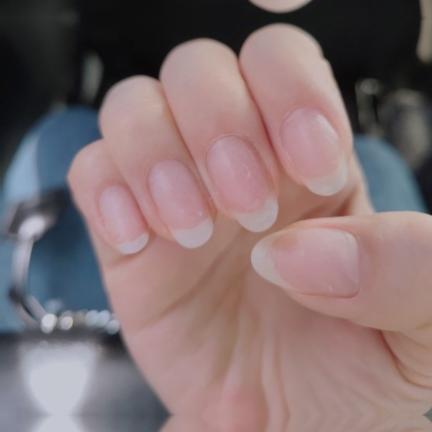Nail: (250, 227, 362, 295), (206, 135, 278, 232), (282, 107, 352, 195), (148, 158, 213, 246), (96, 183, 149, 254)
